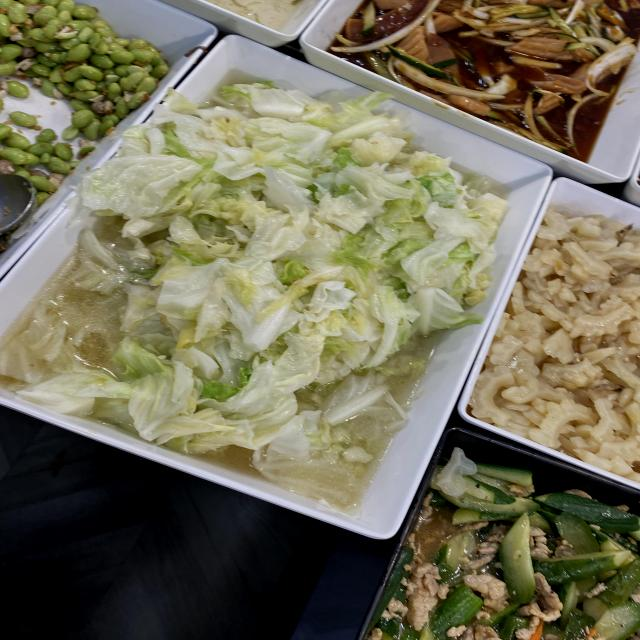cabbage: (148, 132, 409, 402)
